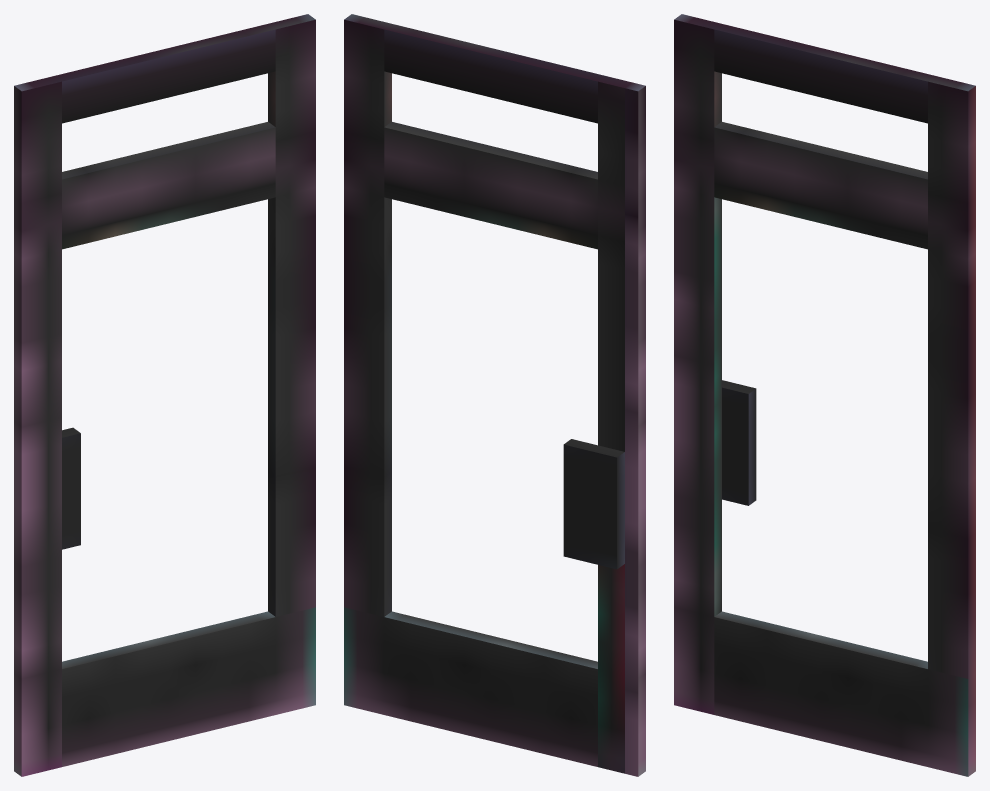
The model's file is Door_B_00.fbx.
3 renders of one model, left to right at view 1: azimuth 30°, elevation 25°; view 2: azimuth 150°, elevation 25°; view 3: azimuth 330°, elevation 25°, orthographic.
Visible parts, largest first — view 1: Door_B_00; view 2: Door_B_00; view 3: Door_B_00.
Boxes of the visible parts, x1,y1,x2,y2 form: Door_B_00: (14, 14, 315, 776); Door_B_00: (344, 14, 645, 776); Door_B_00: (674, 14, 975, 776).
Size of the model in its own units: 110 by 245 by 10.
